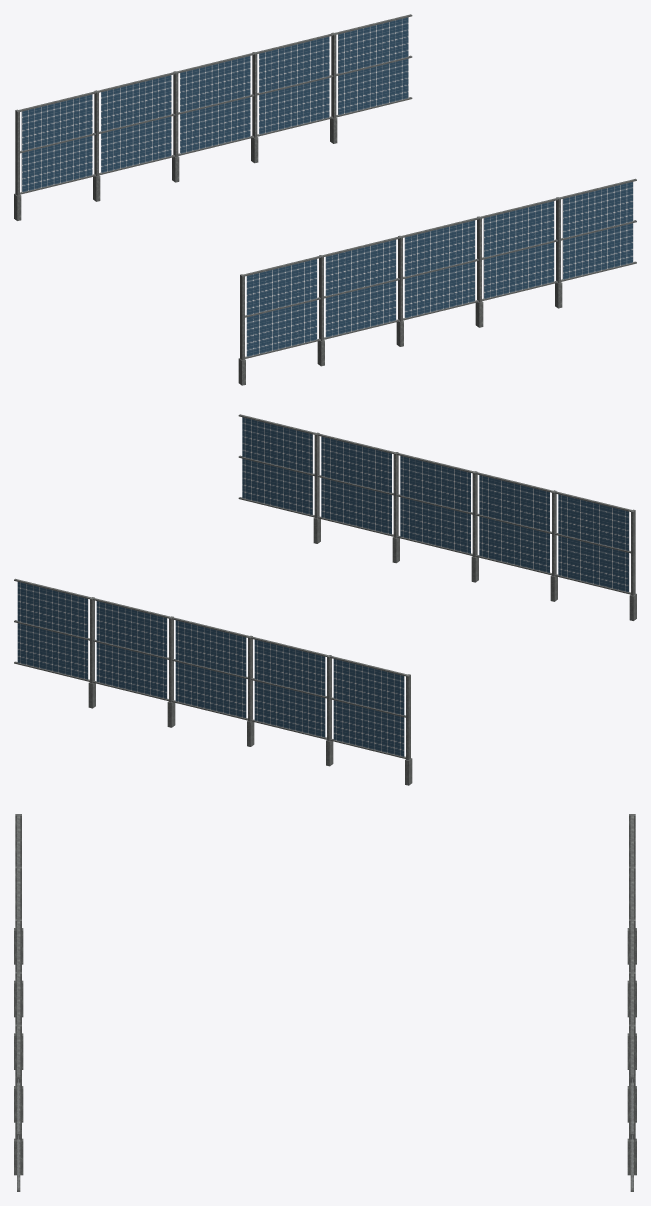
Rendered from PV_row_module.glb.
3 renders of one model, top to bottom at view 1: azimuth 30°, elevation 25°; view 2: azimuth 150°, elevation 25°; view 3: azimuth 270°, elevation 25°, orthographic. The views are drawn at different scales.
Visible parts, largest first — view 1: instance_3, instance_8, instance_8.003, instance_7.003, instance_2, instance_7, instance_8.021, instance_7.012, instance_7.015, instance_8.006, instance_8.015, instance_8.018 (+8 smaller); view 2: instance_8.013, instance_8.016, instance_8.019, instance_7.019, instance_7.013, instance_7.016, instance_8.010, instance_2.001, instance_7.001, instance_8.001, instance_8.004, instance_7.007 (+8 smaller); view 3: no part large enough to name.
Boxes of the visible parts, box(x1,y1,x2,y2) form: instance_3: box(246, 300, 317, 356); instance_8: box(325, 281, 396, 337); instance_8.003: box(404, 261, 475, 318); instance_7.003: box(404, 220, 475, 276); instance_2: box(246, 259, 317, 315); instance_7: box(325, 239, 396, 296); instance_8.021: box(338, 58, 408, 115); instance_7.012: box(22, 94, 92, 150); instance_7.015: box(101, 75, 171, 131); instance_8.006: box(484, 242, 554, 298); instance_8.015: box(101, 116, 171, 173); instance_8.018: box(180, 97, 250, 153); instance_8.013: box(333, 700, 404, 756); instance_8.016: box(254, 681, 325, 737); instance_8.019: box(175, 661, 246, 718); instance_7.019: box(175, 620, 246, 676); instance_7.013: box(333, 659, 404, 715); instance_7.016: box(254, 639, 325, 696); instance_8.010: box(242, 458, 312, 515); instance_2.001: box(558, 494, 628, 550); instance_7.001: box(479, 475, 549, 531); instance_8.001: box(479, 516, 549, 573); instance_8.004: box(400, 497, 470, 553); instance_7.007: box(321, 436, 391, 493).
Size of the model in its own units: 10.02 by 2.63 by 10.
3 materials, 3 textured.
